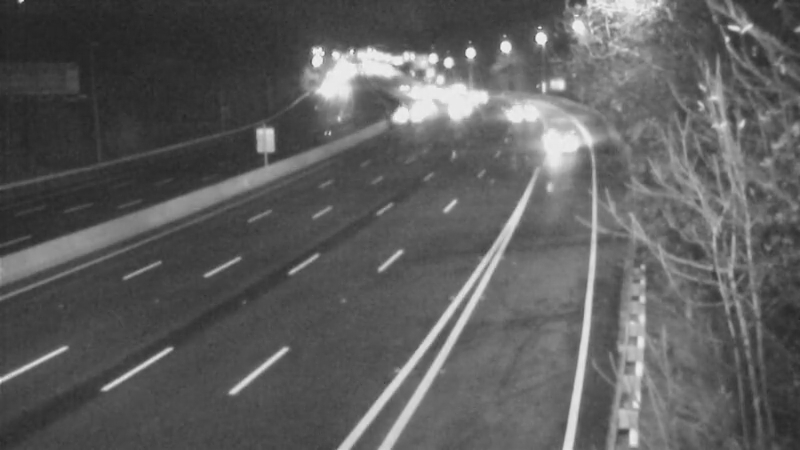vehicle: (397, 80, 447, 130), (436, 82, 486, 132), (490, 83, 540, 133), (373, 85, 423, 135), (538, 117, 588, 167)
